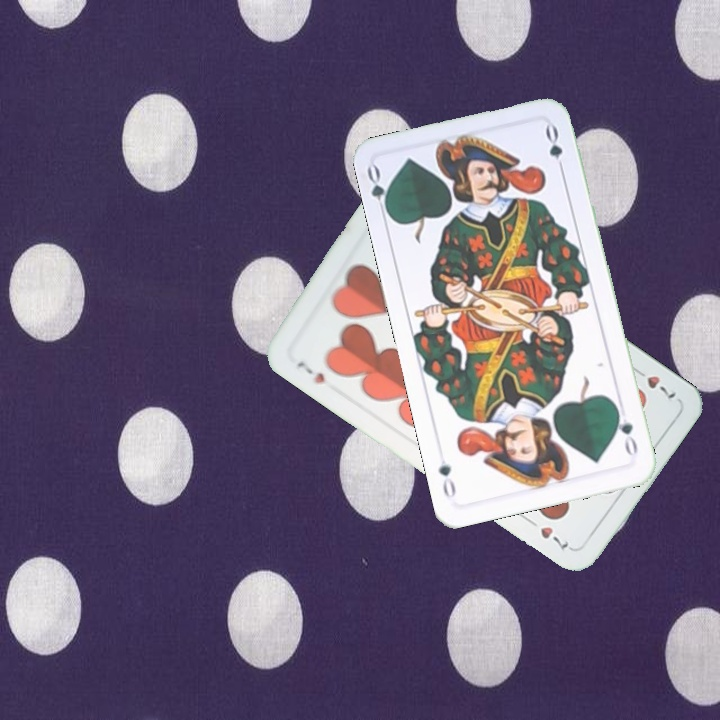GO: (363, 162, 393, 221), (612, 403, 640, 461)
H7: (629, 363, 679, 402), (293, 357, 328, 387)
